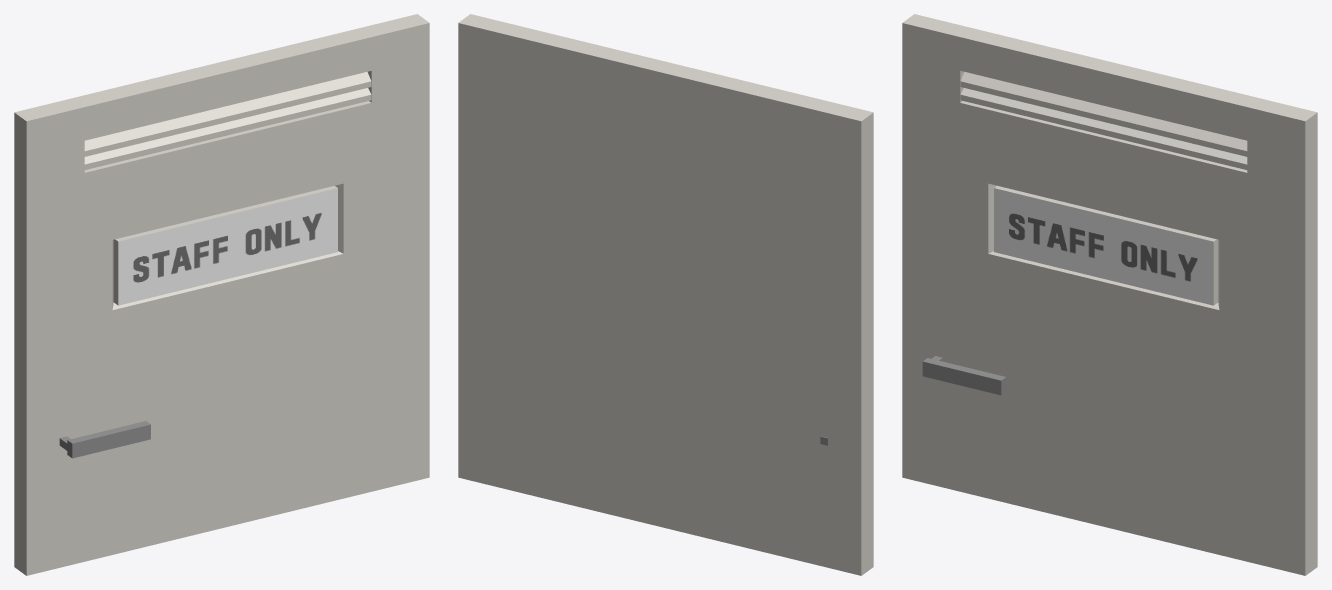
File: fbx_staffdoor.fbx
The picture shows the model from 3 angles, left to right: view 1: azimuth 30°, elevation 25°; view 2: azimuth 150°, elevation 25°; view 3: azimuth 330°, elevation 25°; orthographic projection.
Visible parts, largest first — view 1: fbx_staffdoor; view 2: fbx_staffdoor; view 3: fbx_staffdoor.
Boxes of the visible parts, <box> form: fbx_staffdoor: <box>14,14,429,575</box>; fbx_staffdoor: <box>458,14,873,575</box>; fbx_staffdoor: <box>902,14,1317,575</box>.
Bounding box in the file's own units: 2.37 × 2.55 × 0.2587.
1 material, 1 textured.
